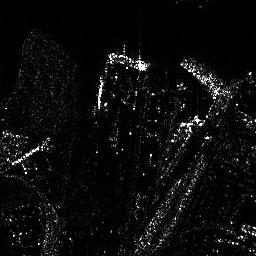ship: (106, 51, 151, 71)
